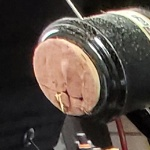bottle: (21, 12, 140, 131)
